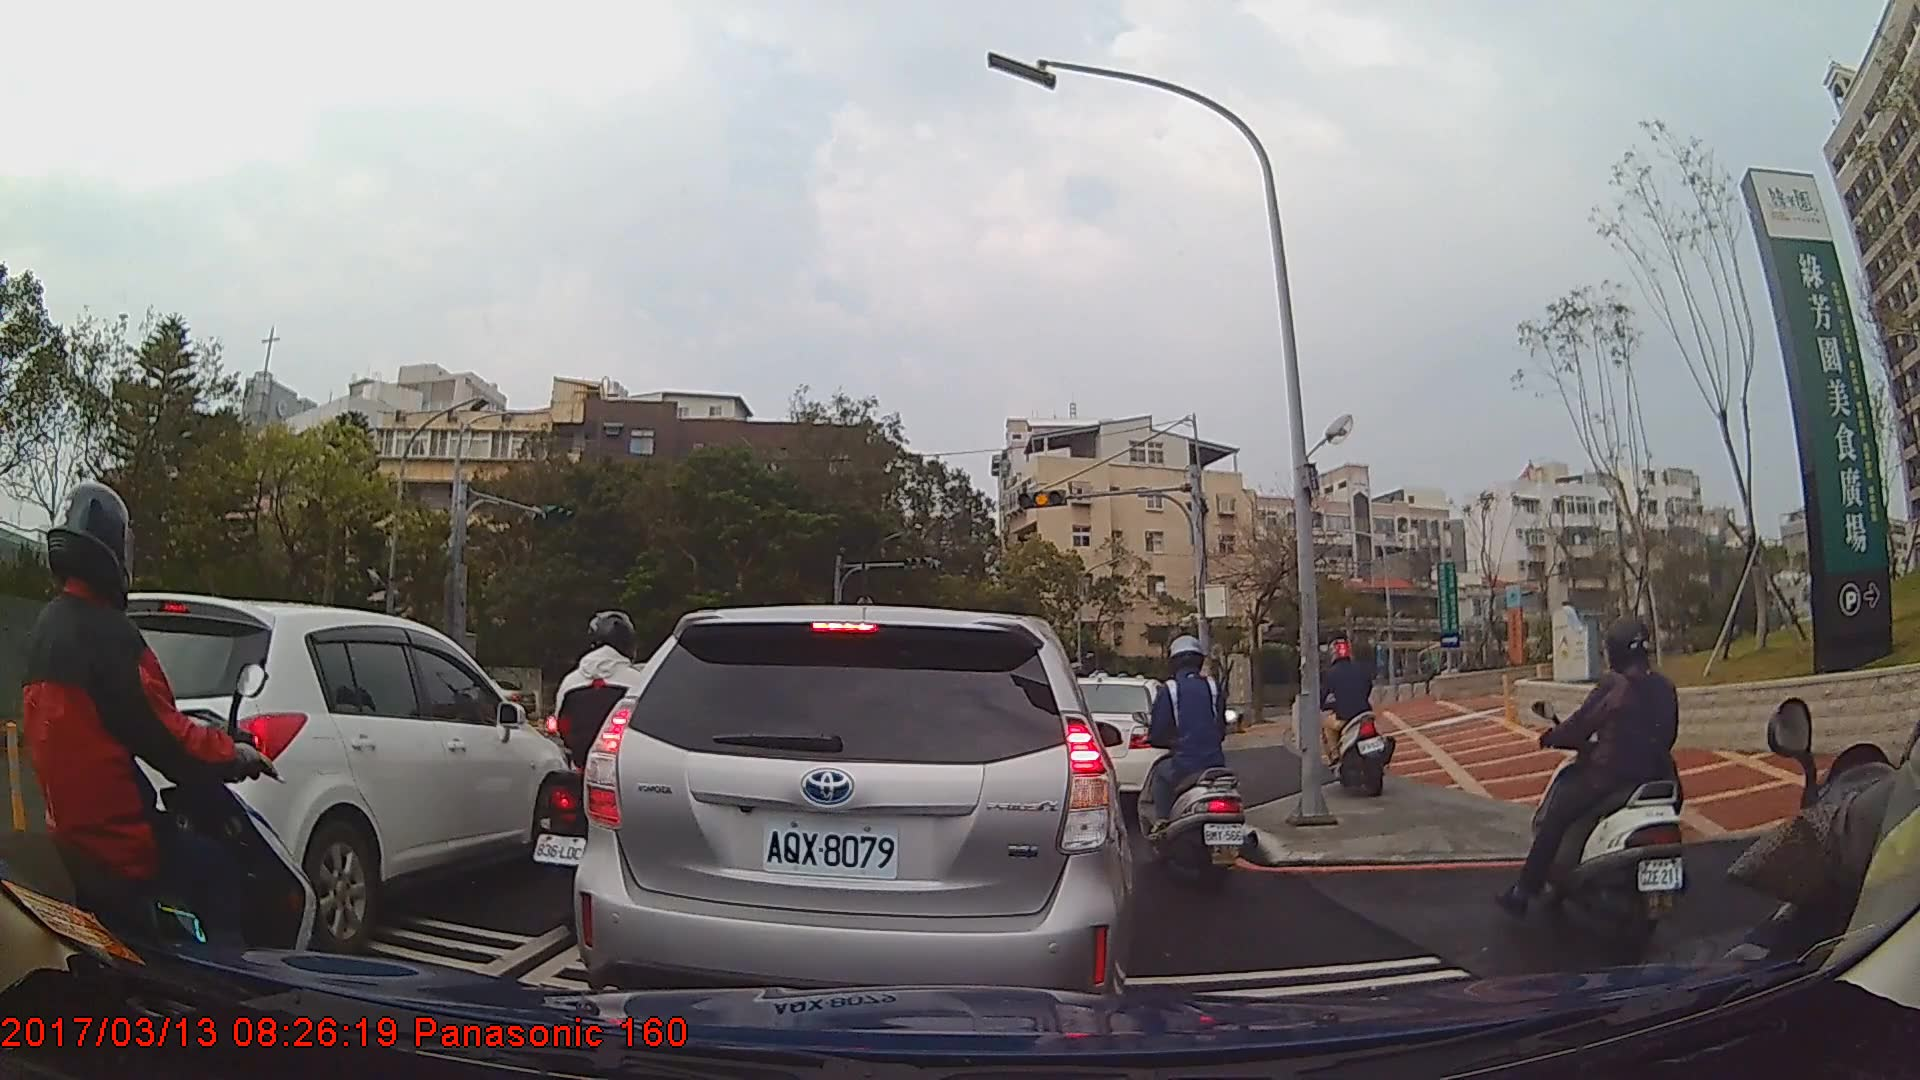rider: (1, 474, 330, 1063), (1499, 614, 1690, 935), (521, 605, 685, 918), (1136, 633, 1254, 894), (1315, 638, 1393, 808)
vehicle: (569, 601, 1134, 1017), (38, 592, 578, 958)
